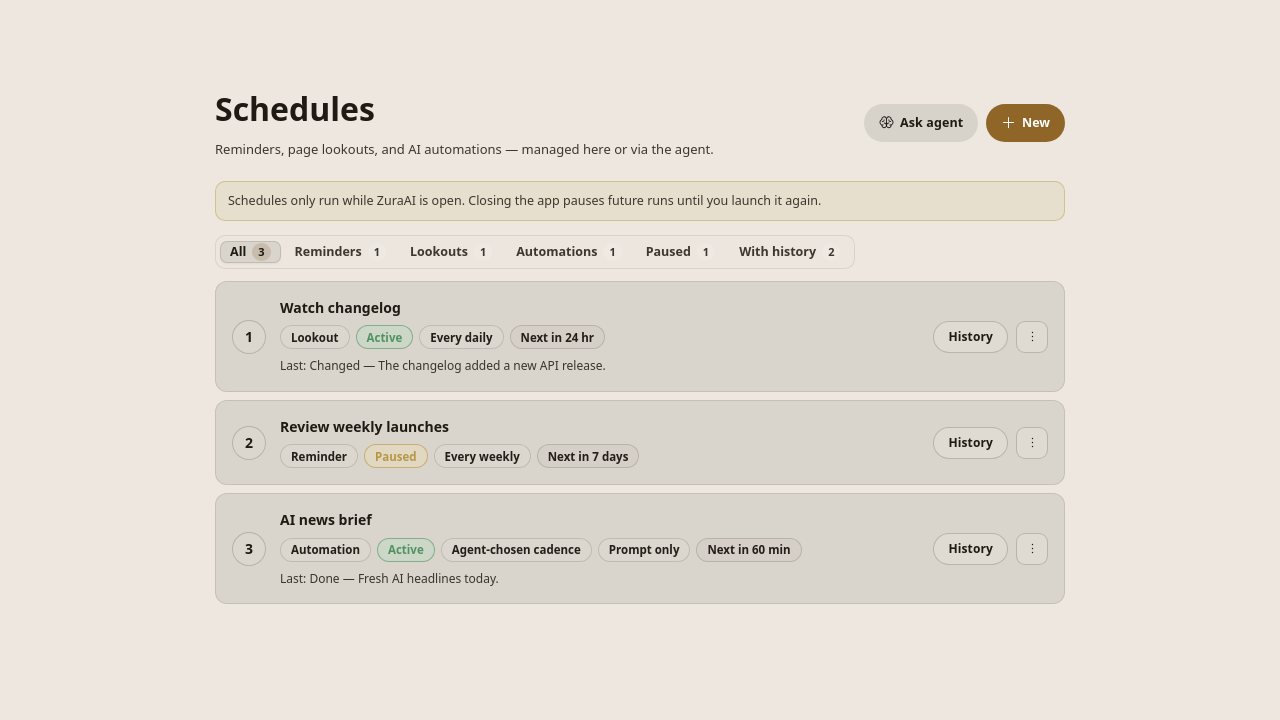
Scenario: RemindersView (Schedules) › opens history in the side drawer with type-aware status labels
Expected: the text "Watch changelog" is shown, [280,298,401,317]
Click the button "History" in the row of "in 24 hr" at x=971, y=336, box [933,320,1008,352]
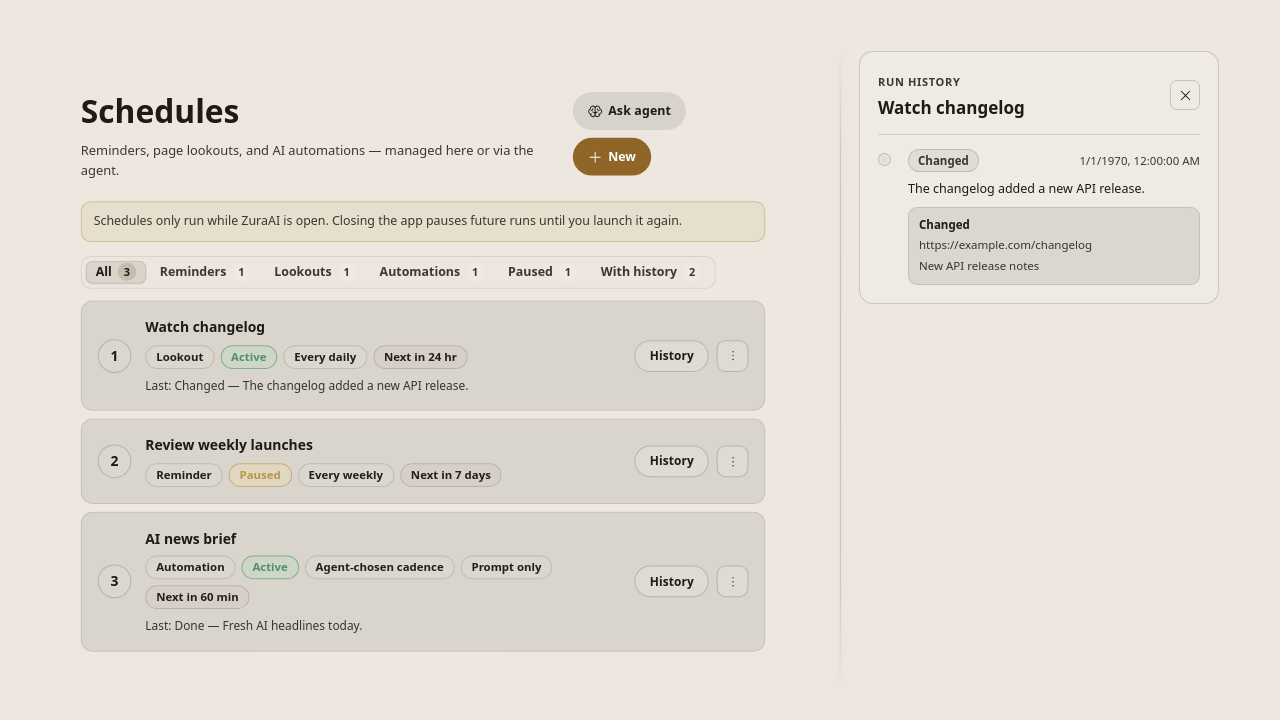
Expected: the element named "run history for watch changelog" is shown, [858,51,1218,304]
Expected: the text "Changed" is shown, [908,150,978,173]
Expected: the text "The changelog added a new API release." is shown, [908,181,1144,198]
